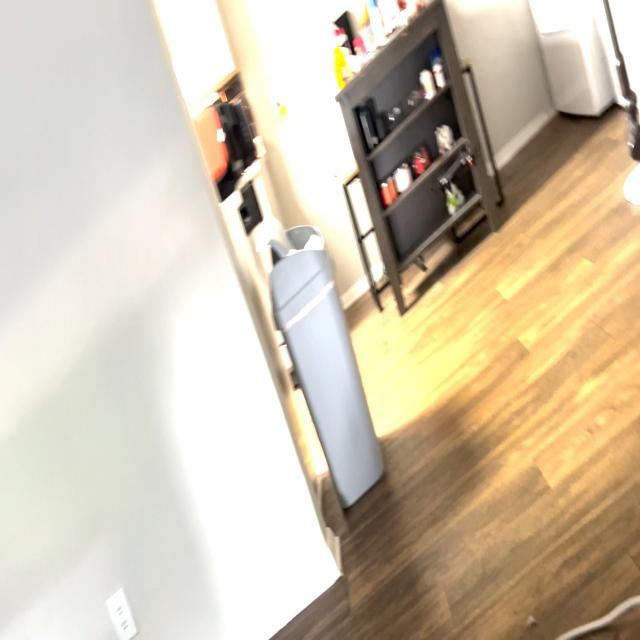drone: (434, 132, 481, 208)
